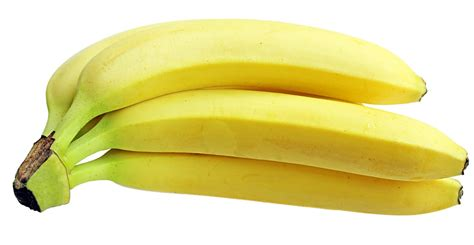banana: (96, 83, 472, 185), (61, 16, 433, 119), (92, 145, 465, 223)
